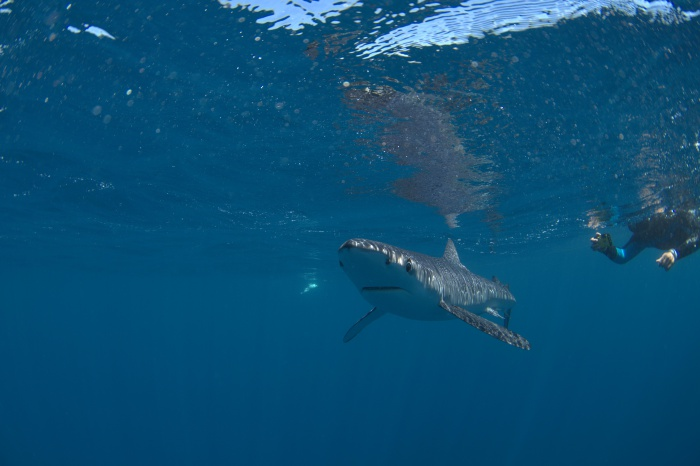Azul: (327, 215, 541, 369)
